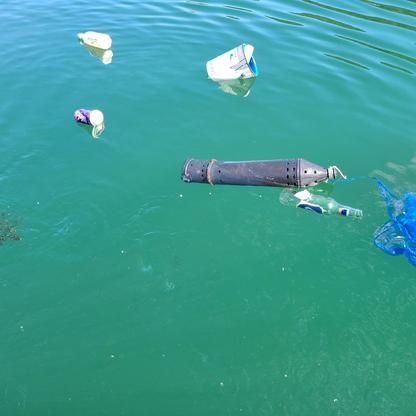plastic bag: (373, 189, 416, 260)
plastic bottle: (77, 32, 113, 49), (74, 108, 103, 125)
